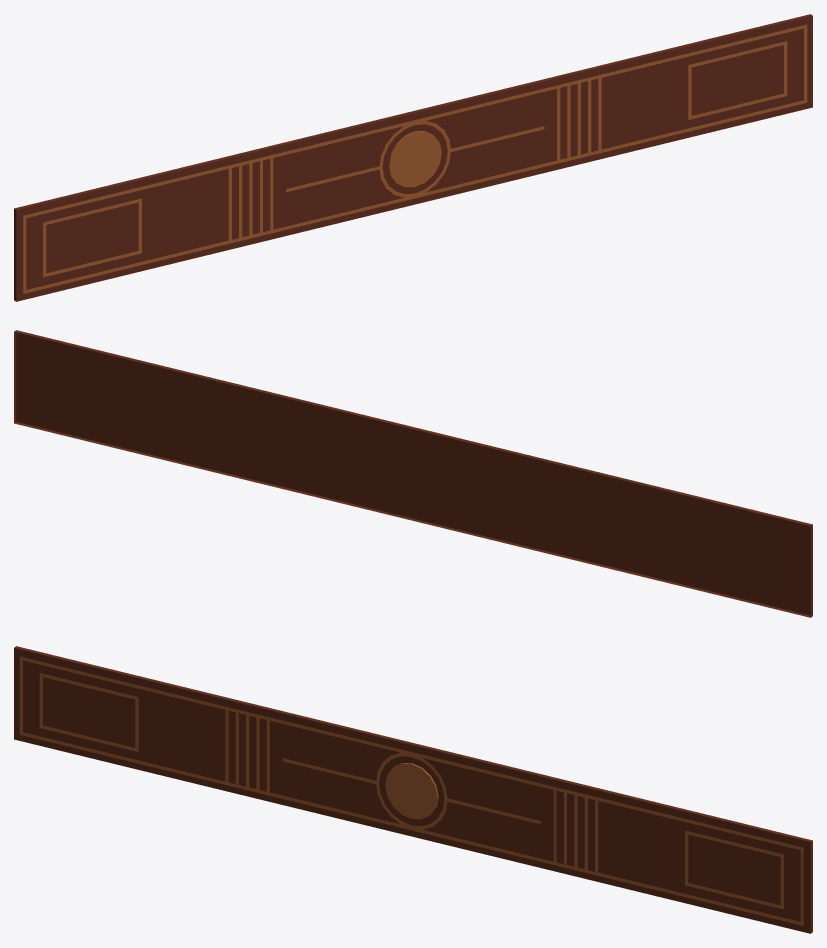
The model's file is lintel_band.glb.
The picture shows the model from 3 angles, top to bottom: view 1: azimuth 30°, elevation 25°; view 2: azimuth 150°, elevation 25°; view 3: azimuth 330°, elevation 25°; orthographic projection.
Visible parts, largest first — view 1: lintel_band; view 2: lintel_band; view 3: lintel_band.
Boxes of the visible parts, <box> form: lintel_band: <box>14,14,812,301</box>; lintel_band: <box>14,330,812,617</box>; lintel_band: <box>14,646,812,933</box>.
Size of the model in its own units: 10 by 1.1 by 0.07.
